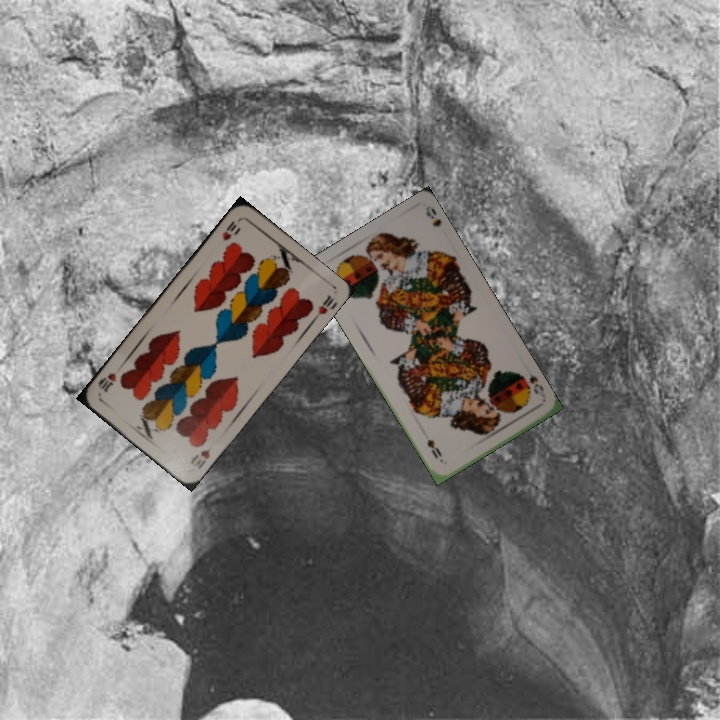H10: (186, 442, 216, 472), (218, 215, 243, 243)
SO: (515, 364, 547, 397)
